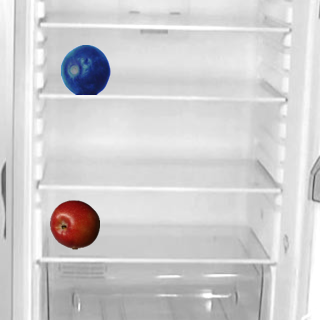Apple Braeburn: (49, 199, 99, 249)
Huckleberry: (60, 44, 110, 94)
